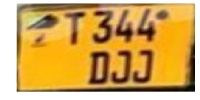T: (62, 10, 87, 48)
